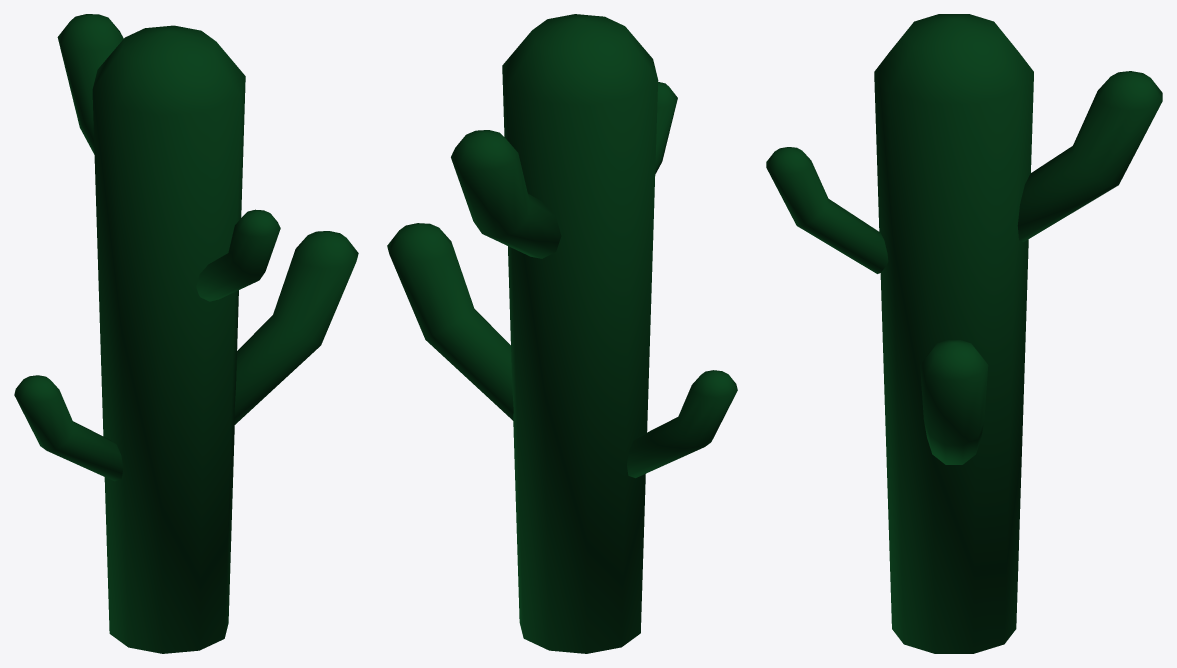
The model's file is cactus_big.FBX.
The picture shows the model from 3 angles, left to right: view 1: azimuth 30°, elevation 25°; view 2: azimuth 150°, elevation 25°; view 3: azimuth 270°, elevation 25°; orthographic projection. The views are drawn at different scales.
Parts seen in each view (by area): view 1: Sphere010; view 2: Sphere010; view 3: Sphere010.
Part boxes in pixels (x1,y1,x2,y2): Sphere010: (14,14,358,653); Sphere010: (387,14,737,653); Sphere010: (766,14,1162,653).
Bounding box in the file's own units: 65.41 × 111 × 65.41.
